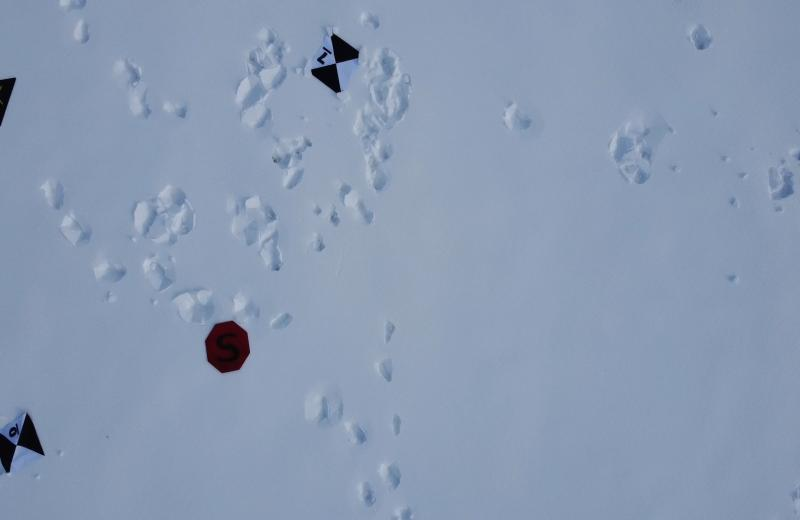Octagon: (204, 318, 251, 372)
Triangle: (0, 74, 16, 130)
